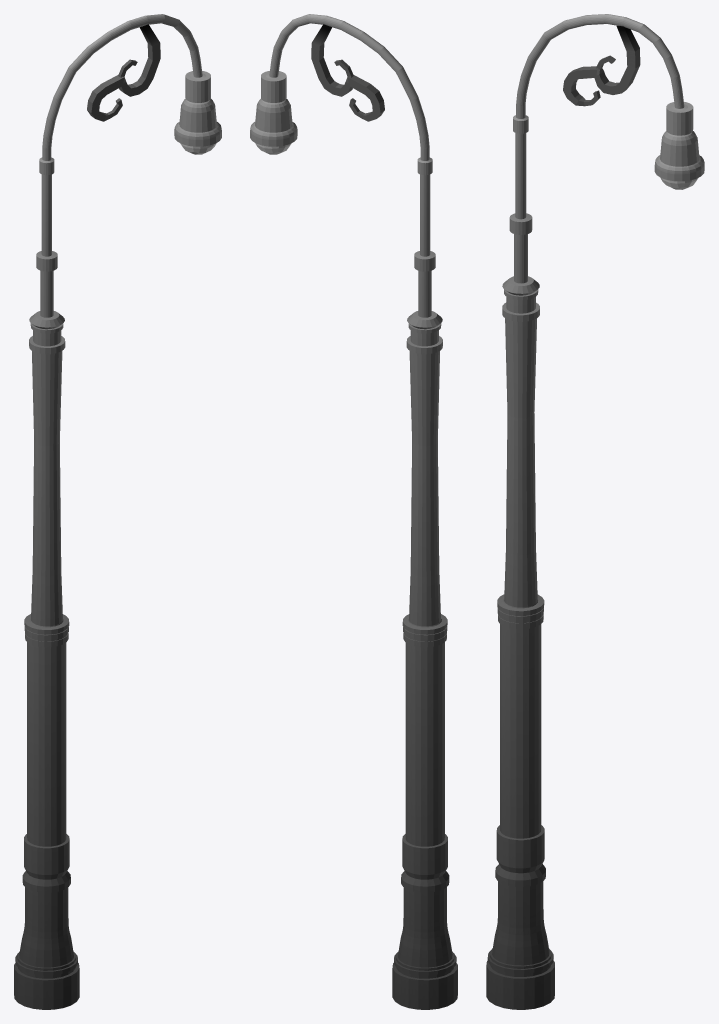
File: Faro.obj
3 views of the same model, side by side, from view 1: azimuth 30°, elevation 25°; view 2: azimuth 150°, elevation 25°; view 3: azimuth 330°, elevation 25° (orthographic). The views are drawn at different scales.
Parts seen in each view (by area): view 1: Faro; view 2: Faro; view 3: Faro.
Boxes of the visible parts, box(x1,y1,x2,y2) form: Faro: box(14, 14, 221, 1009); Faro: box(250, 14, 457, 1009); Faro: box(486, 14, 704, 1009).
Size of the model in its own units: 24.5 by 112 by 6.96.
Materials: 2 (1 with a texture image).
